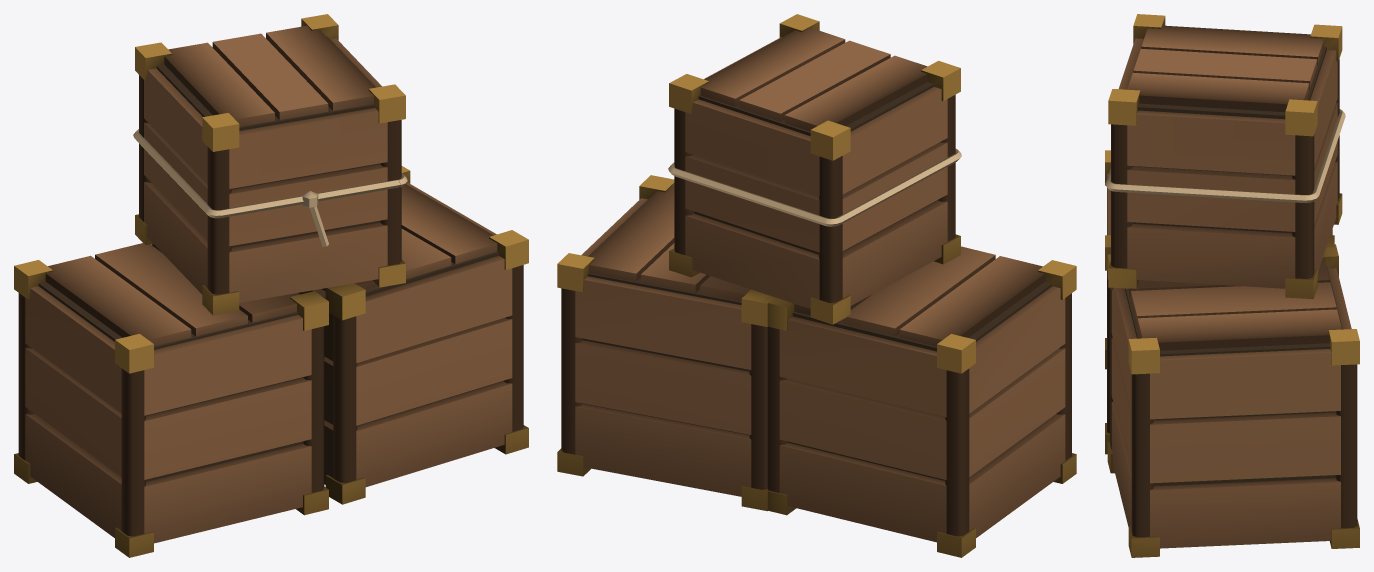
File: crate_stack.fbx
The picture shows the model from 3 angles, left to right: view 1: azimuth 30°, elevation 25°; view 2: azimuth 150°, elevation 25°; view 3: azimuth 270°, elevation 25°; orthographic projection.
Parts seen in each view (by area): view 1: crate_stack; view 2: crate_stack; view 3: crate_stack.
Part boxes in pixels (x1,y1,x2,y2): crate_stack: [14, 14, 528, 557]; crate_stack: [557, 14, 1076, 557]; crate_stack: [1105, 14, 1359, 557].
Bounding box in the file's own units: 1.7 × 1.55 × 0.9148.
